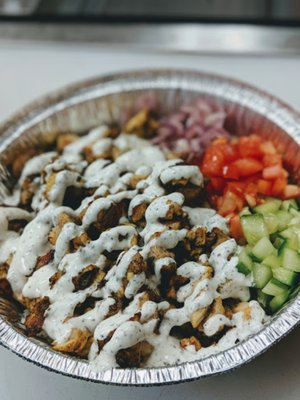sandwich: (0, 68, 300, 387)
